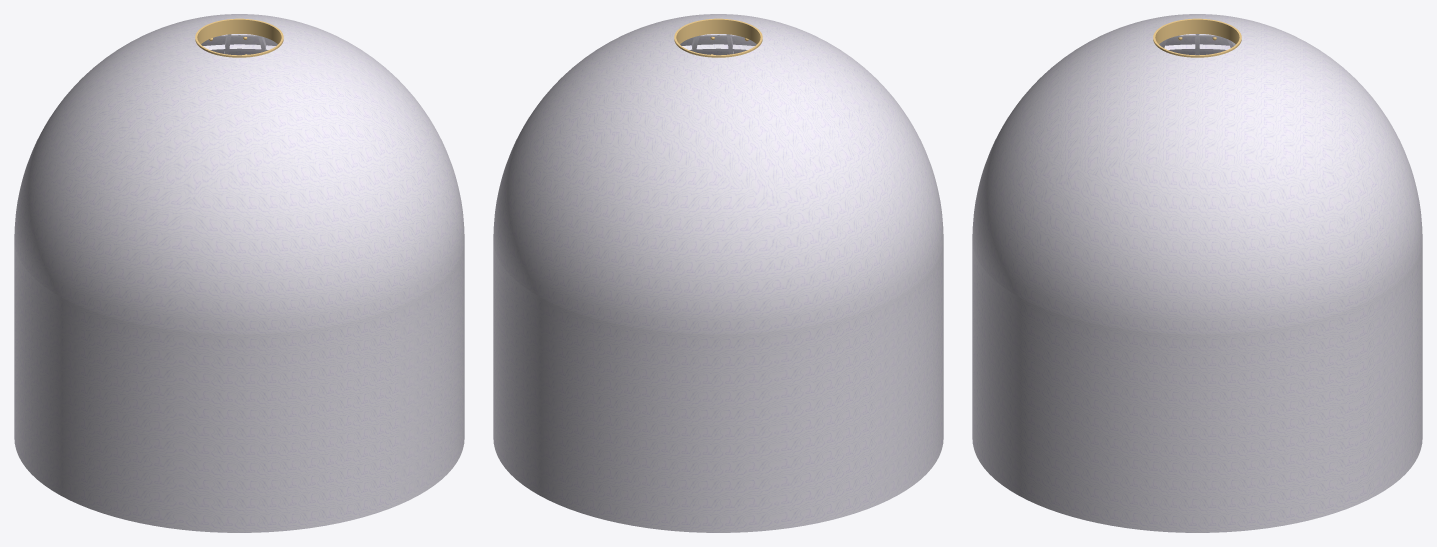
File: HubTemple_Shell.gltf
3 renders of one model, left to right at view 1: azimuth 30°, elevation 25°; view 2: azimuth 150°, elevation 25°; view 3: azimuth 270°, elevation 25°, orthographic.
Visible parts, largest first — view 1: HubTemple_Shell; view 2: HubTemple_Shell; view 3: HubTemple_Shell.
Boxes of the visible parts, x1=… form: HubTemple_Shell: x1=14, y1=14, x2=464, y2=532; HubTemple_Shell: x1=493, y1=14, x2=943, y2=532; HubTemple_Shell: x1=972, y1=14, x2=1422, y2=532.
Size of the model in its own units: 46 by 45.33 by 46.
8 materials, 7 textured.
